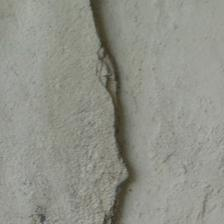Crack: (41, 1, 90, 222)
